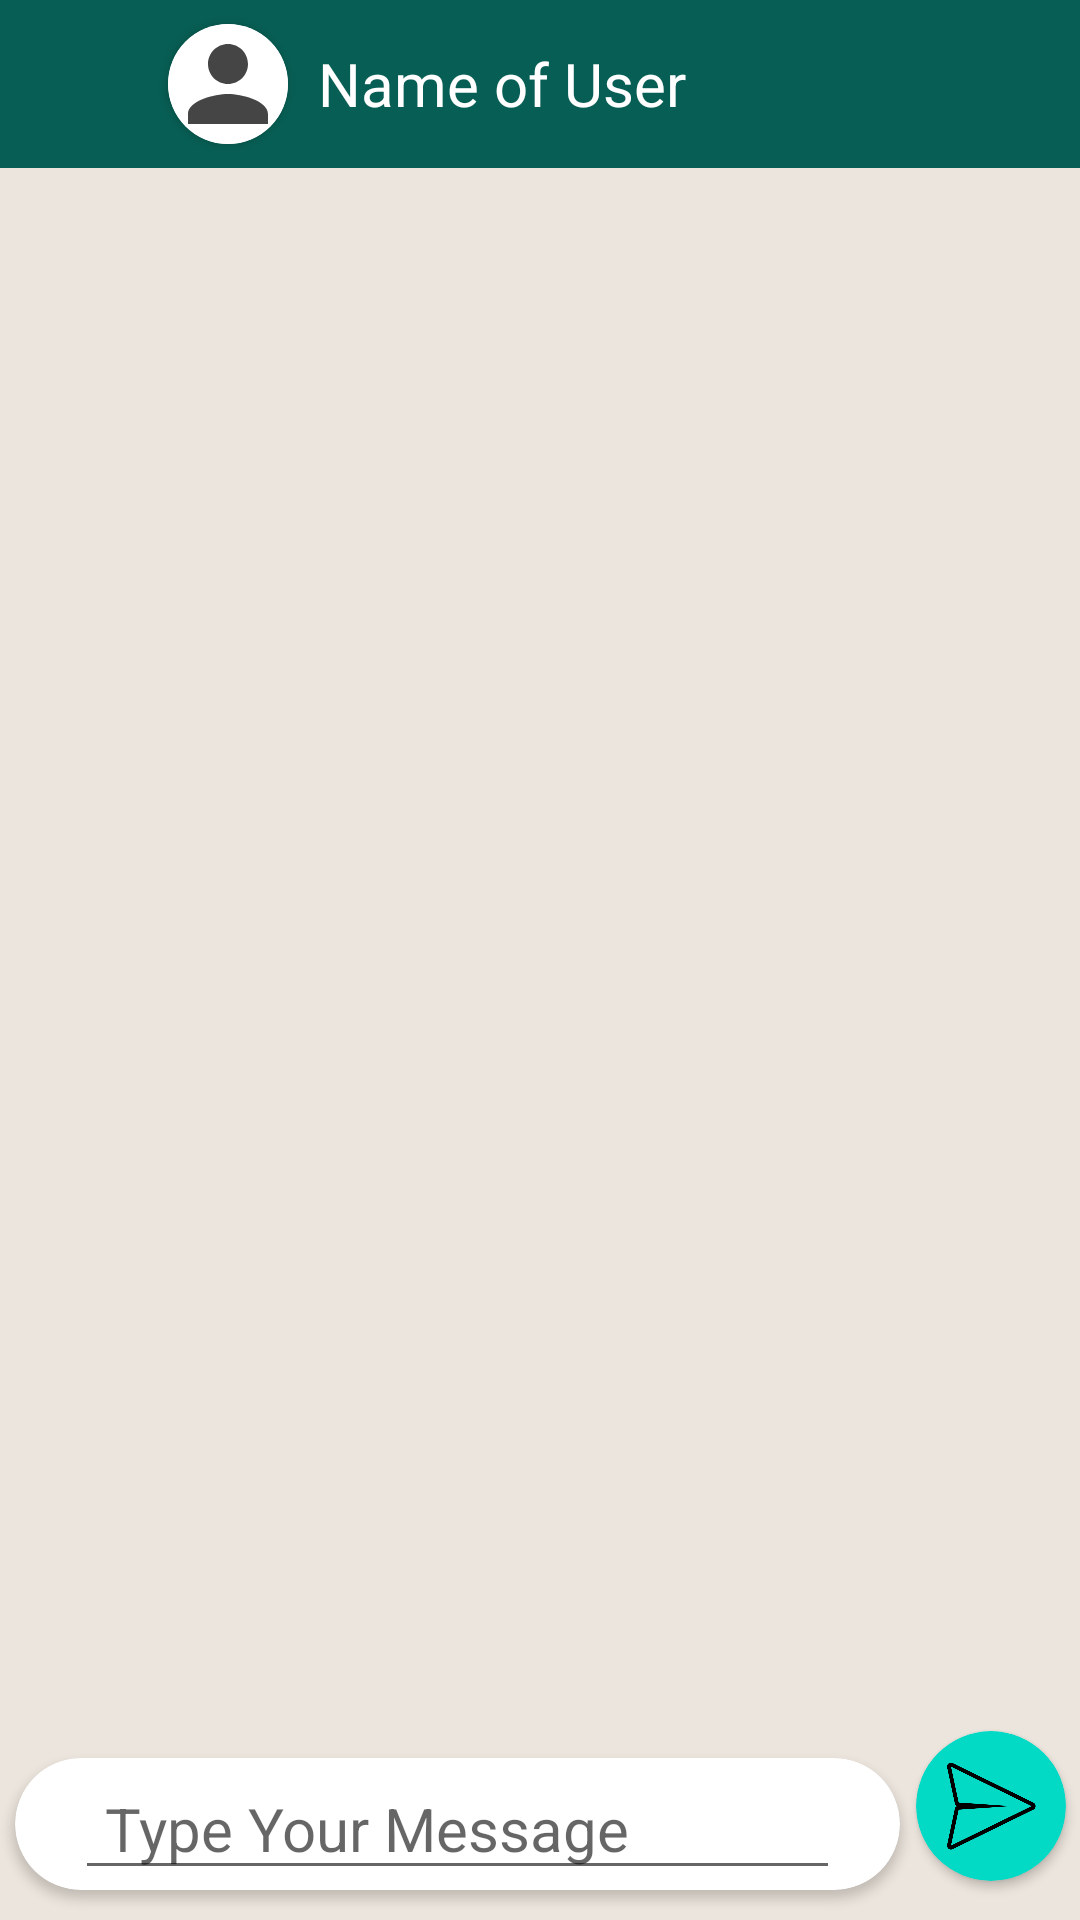

Icons on this 1080w x 1920h Android screen, each with its box as (x1, y1, x2, y2):
person: (168, 24, 288, 144)
send con: (916, 1731, 1066, 1881)
